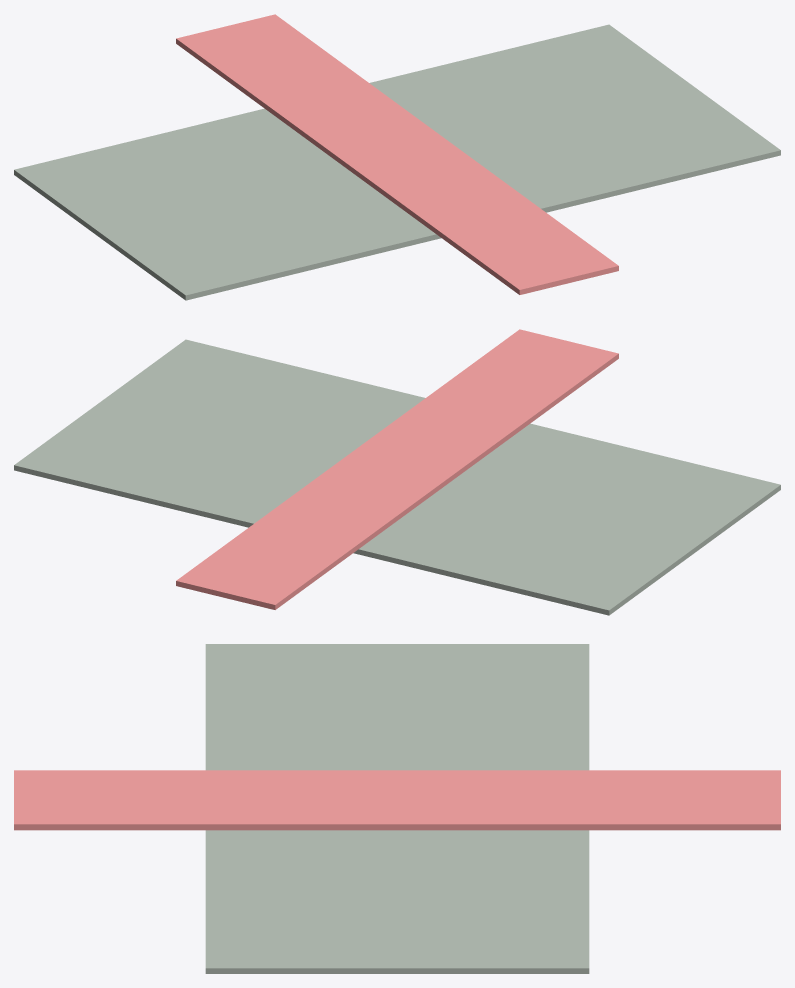
File: board.glb
3 views of the same model, one above another, from view 1: azimuth 30°, elevation 25°; view 2: azimuth 150°, elevation 25°; view 3: azimuth 270°, elevation 25° (orthographic). The views are drawn at different scales.
Parts seen in each view (by area): view 1: Copper_Net2_Contour0, Copper_Net1_Contour0; view 2: Copper_Net2_Contour0, Copper_Net1_Contour0; view 3: Copper_Net2_Contour0, Copper_Net1_Contour0.
Boxes of the visible parts, x1,y1,x2,y2 form: Copper_Net2_Contour0: (14, 24, 780, 300); Copper_Net1_Contour0: (176, 14, 618, 294); Copper_Net2_Contour0: (14, 339, 780, 615); Copper_Net1_Contour0: (176, 329, 618, 609); Copper_Net2_Contour0: (205, 644, 589, 973); Copper_Net1_Contour0: (14, 770, 780, 830).
Bounding box in the file's own units: 1.2e-06 × 2.5e-08 × 1.2e-06.
